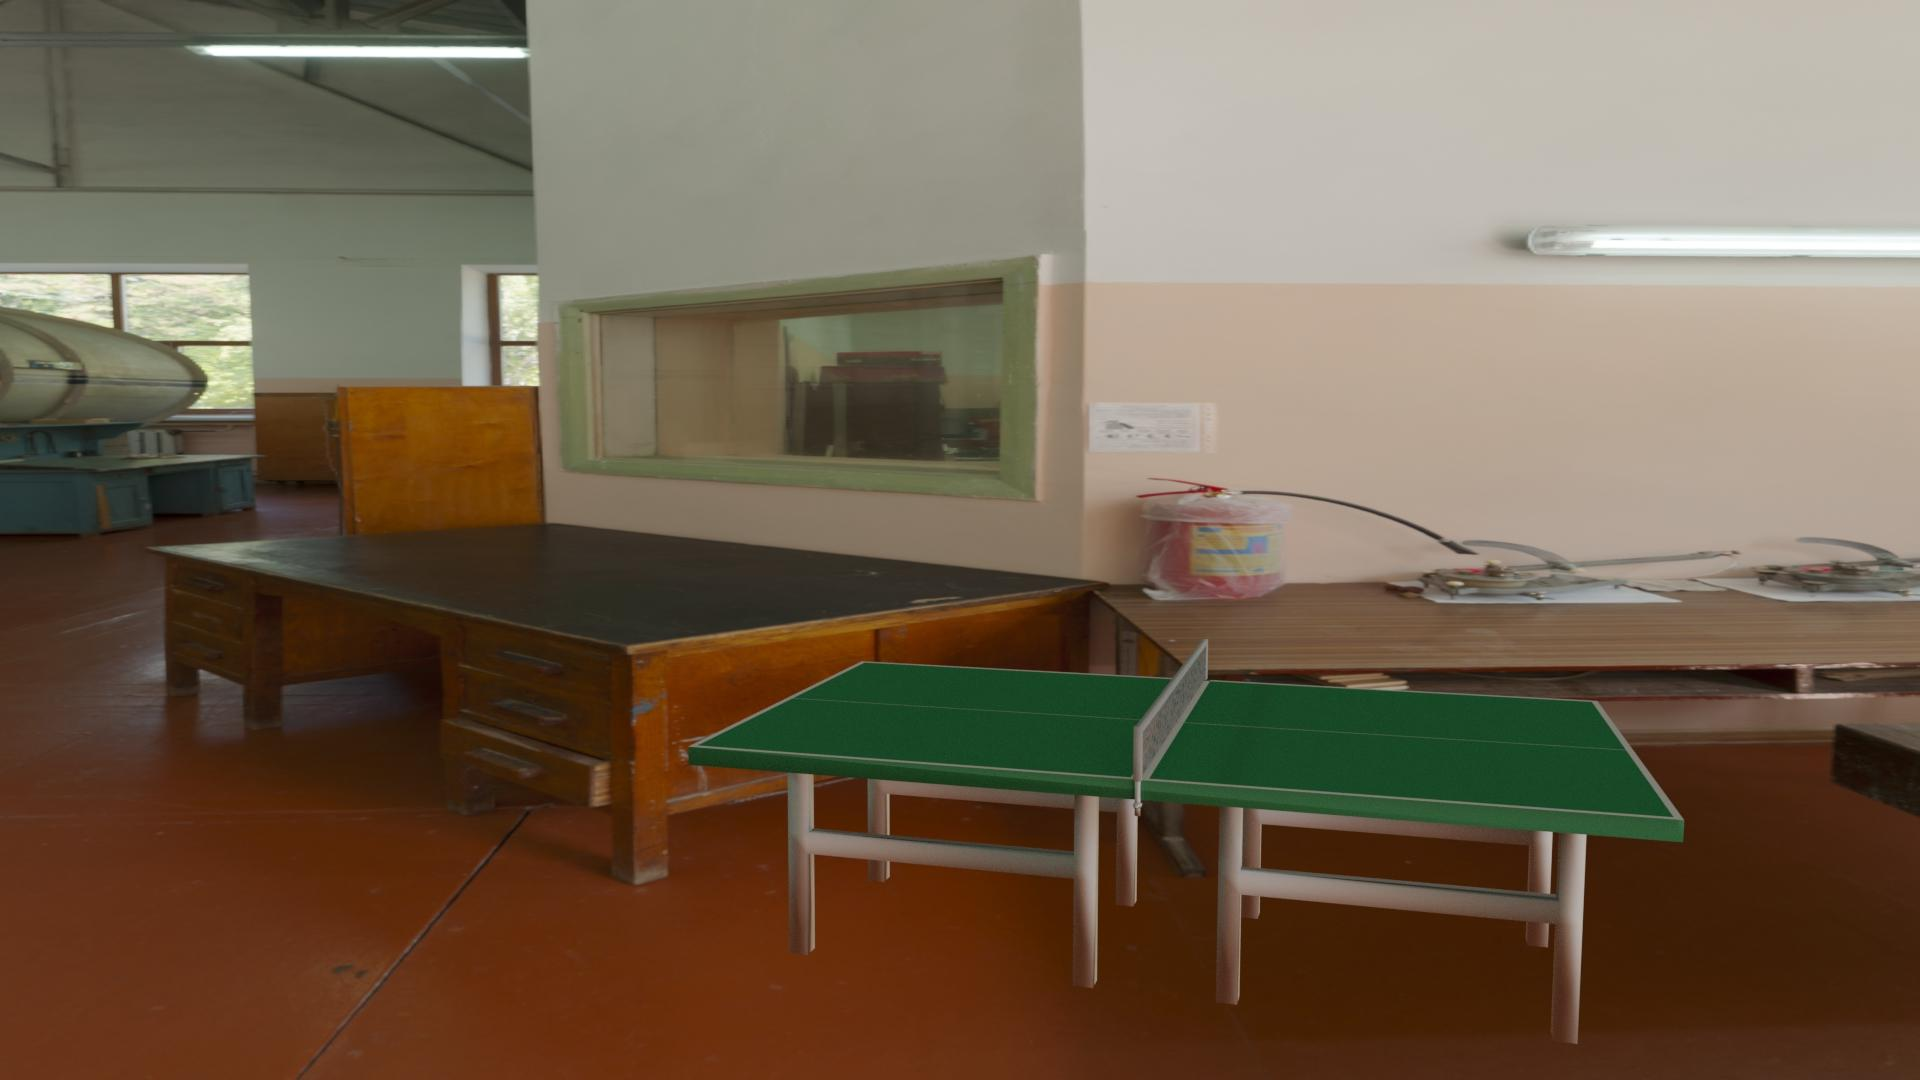table: (698, 662, 1673, 818)
